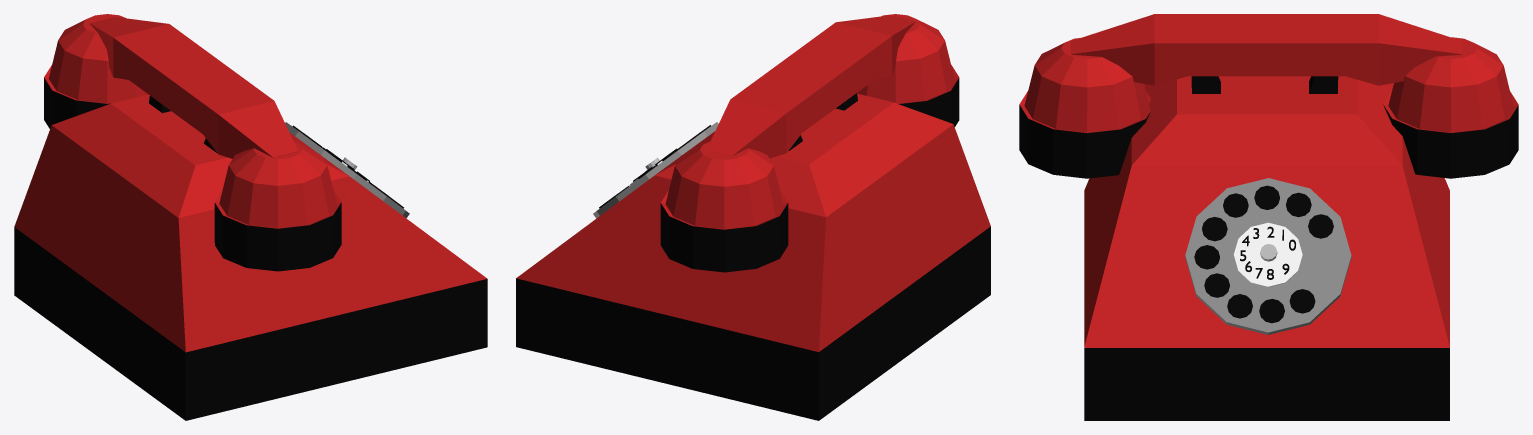
The model's file is phone.fbx.
3 views of the same model, side by side, from view 1: azimuth 30°, elevation 25°; view 2: azimuth 150°, elevation 25°; view 3: azimuth 270°, elevation 25° (orthographic). The views are drawn at different scales.
Visible parts, largest first — view 1: phone; view 2: phone; view 3: phone.
Boxes of the visible parts, bbox=[...] form: phone: bbox=[14, 14, 487, 420]; phone: bbox=[516, 14, 990, 420]; phone: bbox=[1019, 14, 1518, 420].
Bounding box in the file's own units: 329 × 277 × 441.
